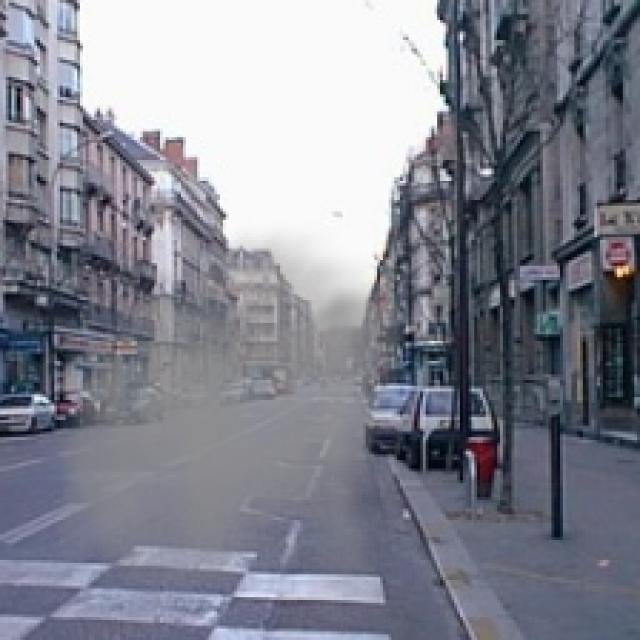smoke: (54, 217, 409, 586)
